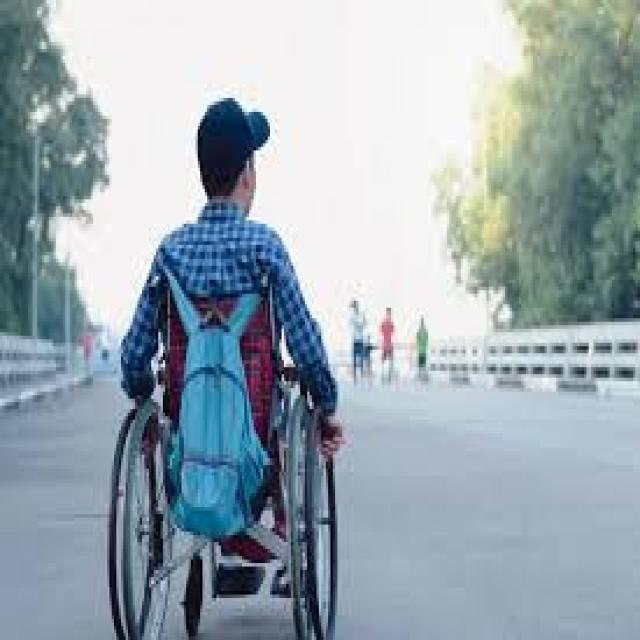wheelchairs: (98, 262, 349, 640)
